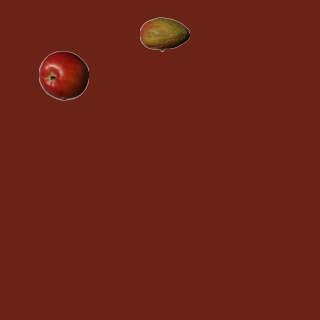Apple Braeburn: (38, 50, 88, 100)
Papaya: (139, 9, 189, 59)
